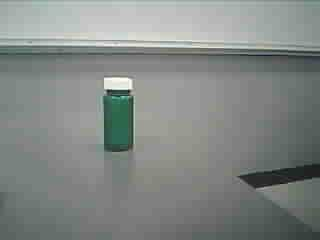Bottle C: (94, 71, 150, 158)
